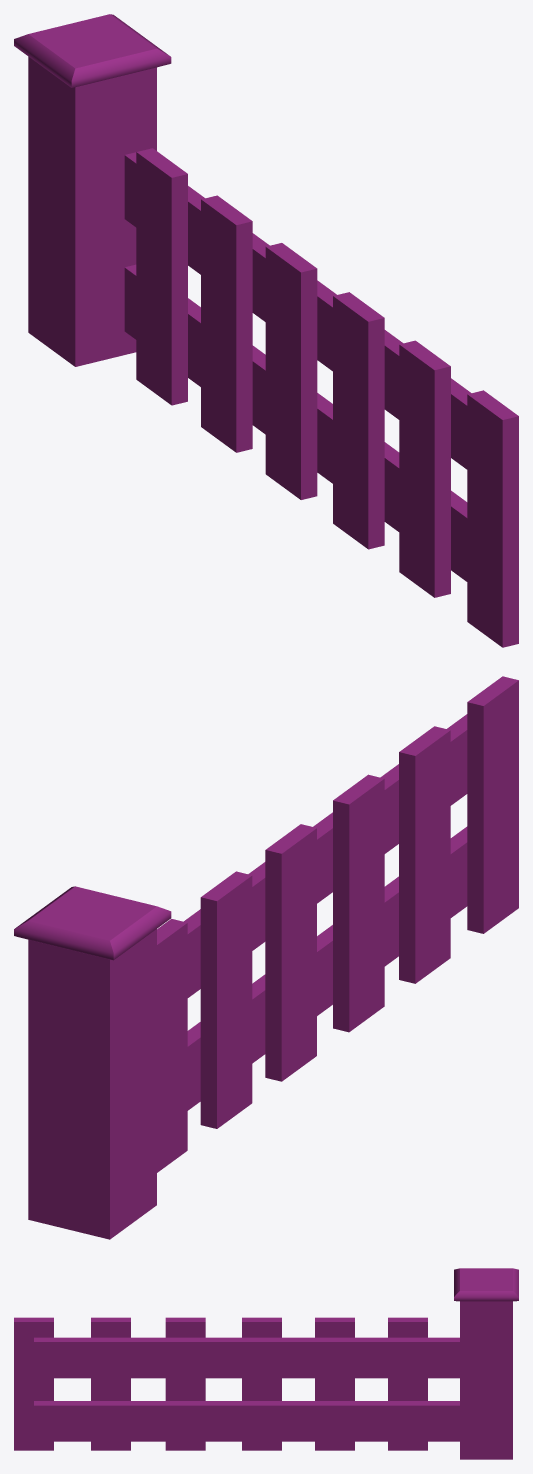
The model's file is HuisHek_Volledig.FBX.
3 renders of one model, top to bottom at view 1: azimuth 30°, elevation 25°; view 2: azimuth 150°, elevation 25°; view 3: azimuth 270°, elevation 25°, orthographic. The views are drawn at different scales.
Parts seen in each view (by area): view 1: Box004; view 2: Box004; view 3: Box004.
Part boxes in pixels (x1,y1,x2,y2): Box004: (14, 14, 518, 647); Box004: (14, 676, 518, 1239); Box004: (14, 1268, 518, 1459).
Bounding box in the file's own units: 9.63 × 27.56 × 74.74.
